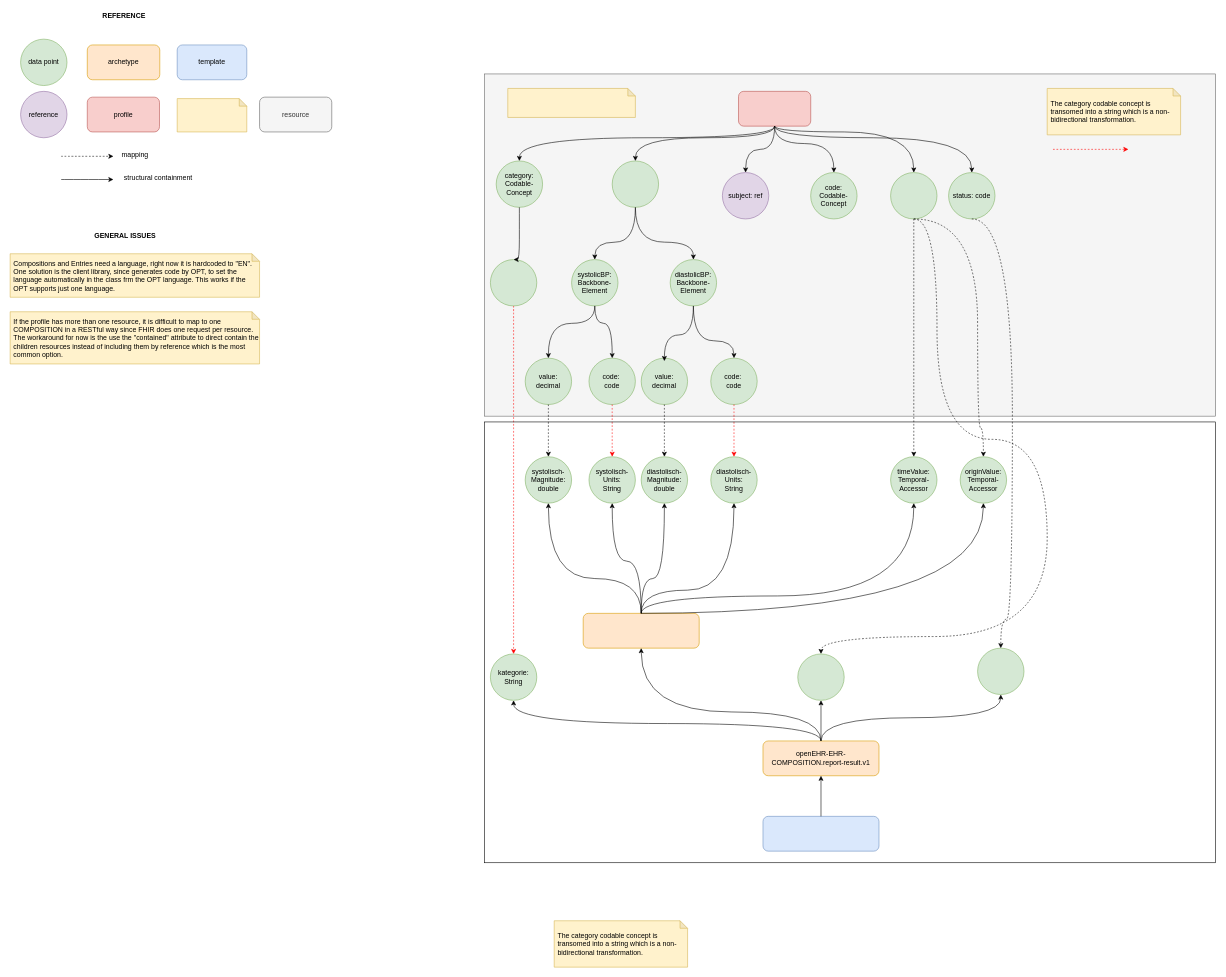
This 1226x977 diagram has some shape labels left out. The shapes that lost their labels are listed below. From the top down, each one's centre as x and y in pixels, then its label:
[212,115]: note
[571,102]: https://simplifier.net/forschungsnetzcovid-19/bloodpressure
[774,108]: BloodPressure - Observation
[635,183]: component: Backbone-Element
[913,195]: effective: dateTime
[513,282]: vitalSigns- Category: Codable- Concept
[641,630]: openEHR-EHR-OBSERVATION.blood_pressure.v2
[820,676]: start time: DateTime
[1000,671]: status: Enum
[820,833]: Blutdruck
